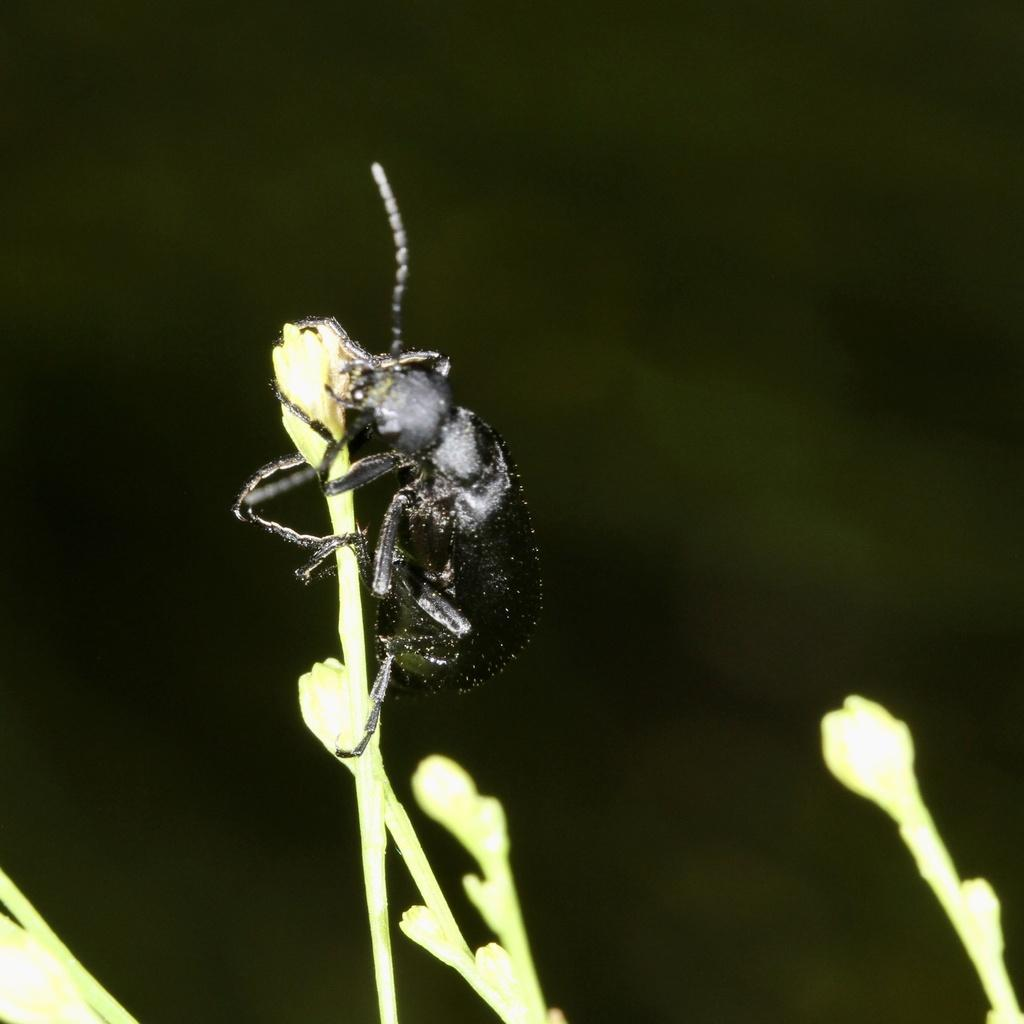blister_beetle: (162, 107, 702, 812)
